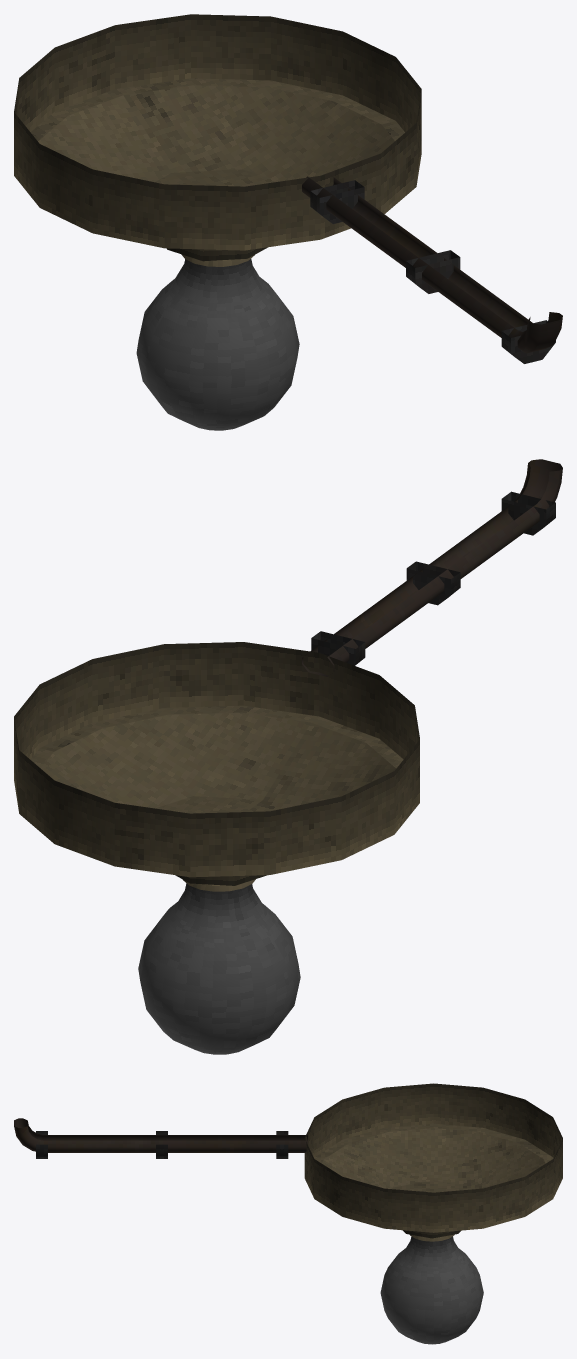
File: ceiling_lamp_mp_1_1_off.glb
3 views of the same model, one above another, from view 1: azimuth 30°, elevation 25°; view 2: azimuth 150°, elevation 25°; view 3: azimuth 270°, elevation 25° (orthographic). The views are drawn at different scales.
Visible parts, largest first — view 1: ceiling_lamp_mp_1_1_off; view 2: ceiling_lamp_mp_1_1_off; view 3: ceiling_lamp_mp_1_1_off.
Boxes of the visible parts, box(x1,y1,x2,y2) form: ceiling_lamp_mp_1_1_off: box(14, 14, 562, 430); ceiling_lamp_mp_1_1_off: box(14, 459, 562, 1054); ceiling_lamp_mp_1_1_off: box(14, 1083, 562, 1344).
Size of the model in its own units: 0.215 by 0.1988 by 0.4568.
4 materials, 4 textured.
